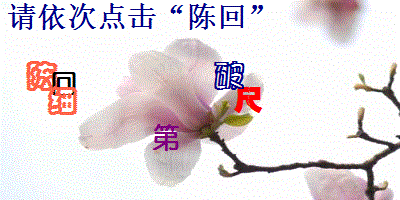result: (186, 2, 246, 32)
text: (23, 60, 59, 93), (211, 59, 246, 92), (47, 86, 80, 117), (152, 122, 180, 155), (236, 84, 264, 115), (52, 69, 78, 97)
